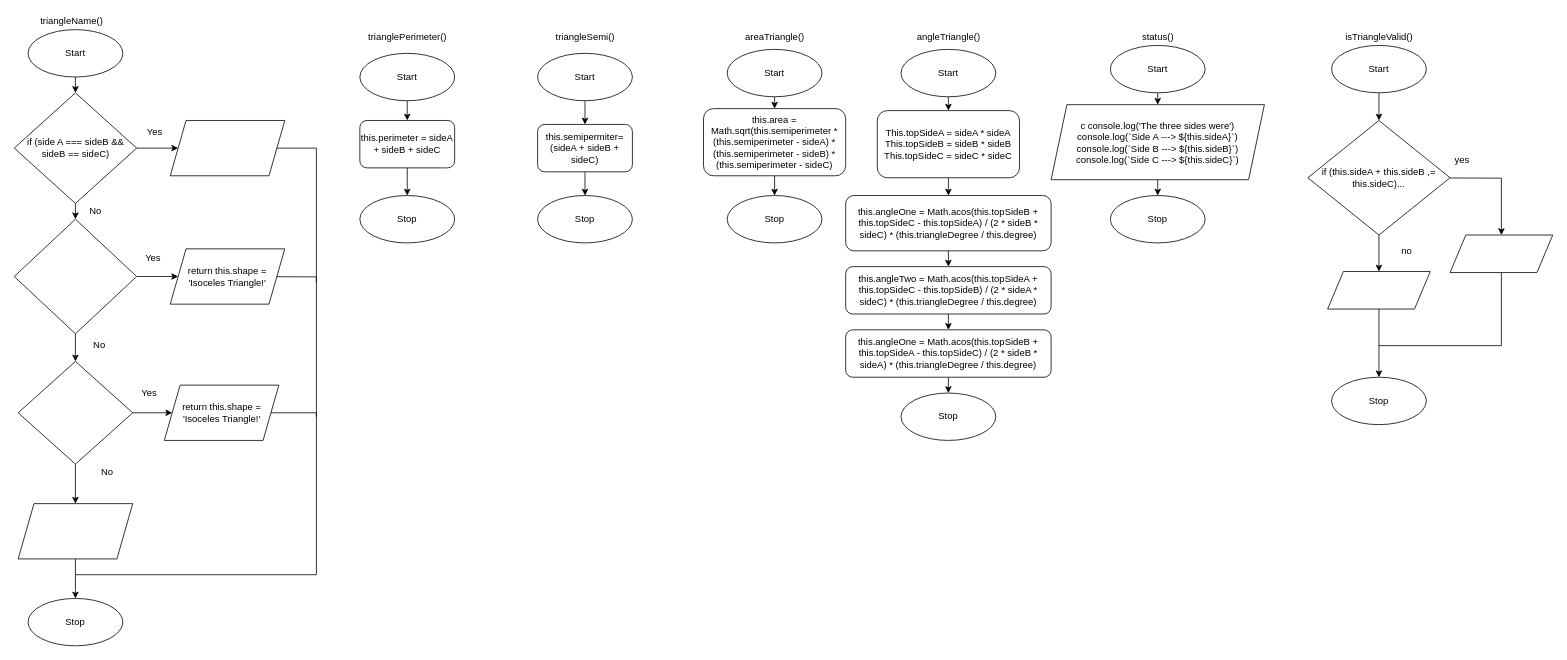
Some shapes in this 1567 by 660 pixel diagram are drawn without their labels. Each missing label, with the centre of its shape:
"else if (sideA === sideB)..." goes at (x=75, y=276).
"else if (sideA² + sideB² = sideC²)..." goes at (x=75, y=412).
"return false" goes at (x=1501, y=253).
"return this.shape = 'Equilateral Triangle!!'" goes at (x=227, y=148).
"return this.shape = 'ScaleneTriangle!'" goes at (x=75, y=531).
"return true" goes at (x=1378, y=290).
